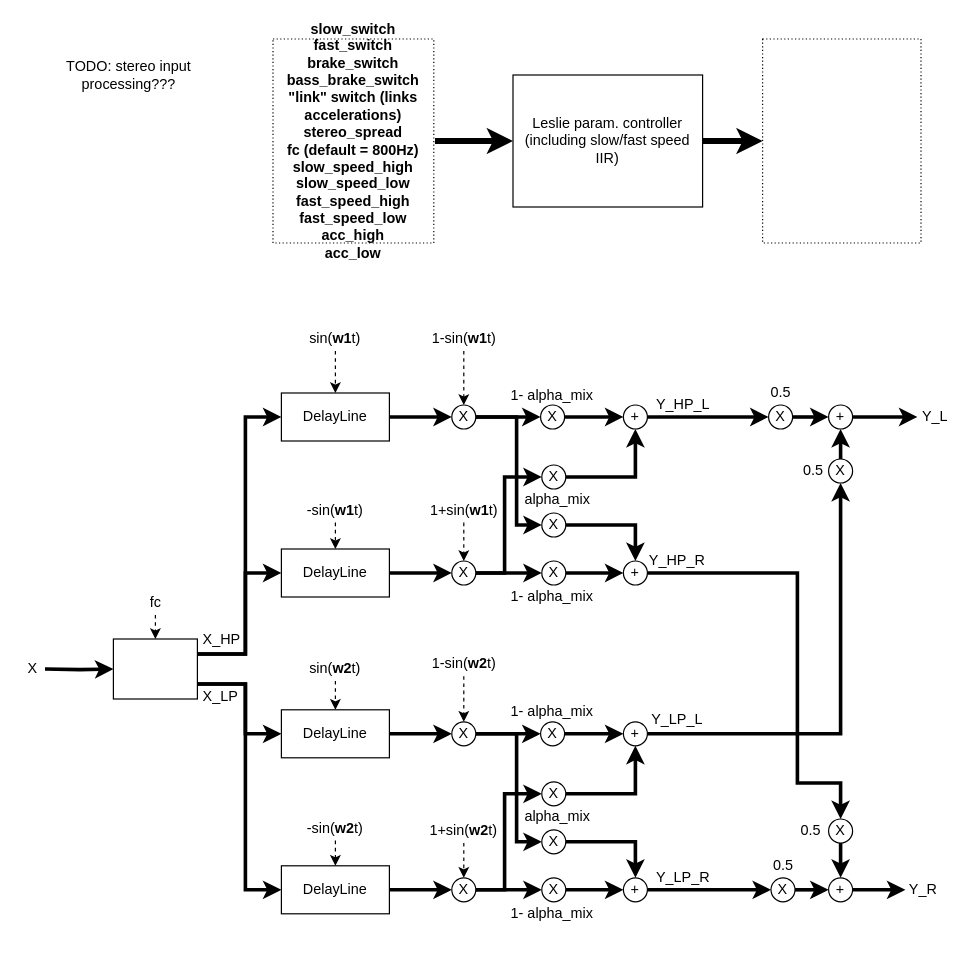
Some shapes in this 973 by 953 pixel diagram are drawn without their labels. Here are the shapes that lost their labels. From the top down, the box of each, then its label:
(761, 38, 921, 243): w1 w2 alpha_mix fc + All amplitudes for the various sinusoidal controls
(112, 638, 197, 699): Crossover
